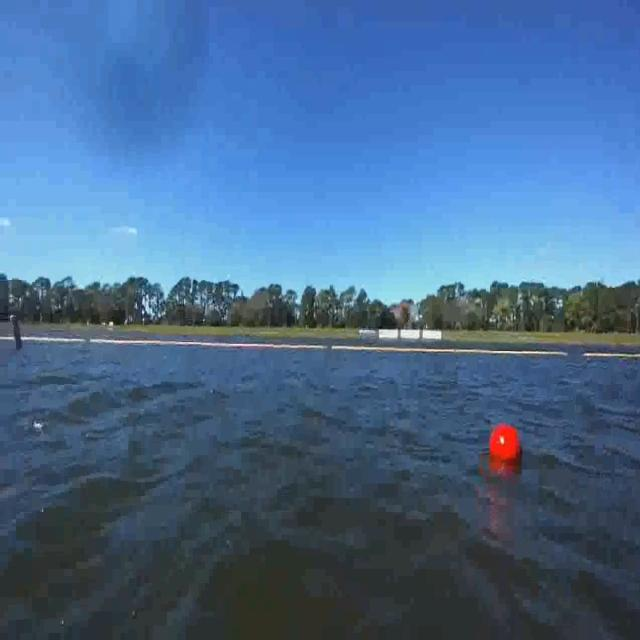red-buoy: (489, 424, 520, 464)
